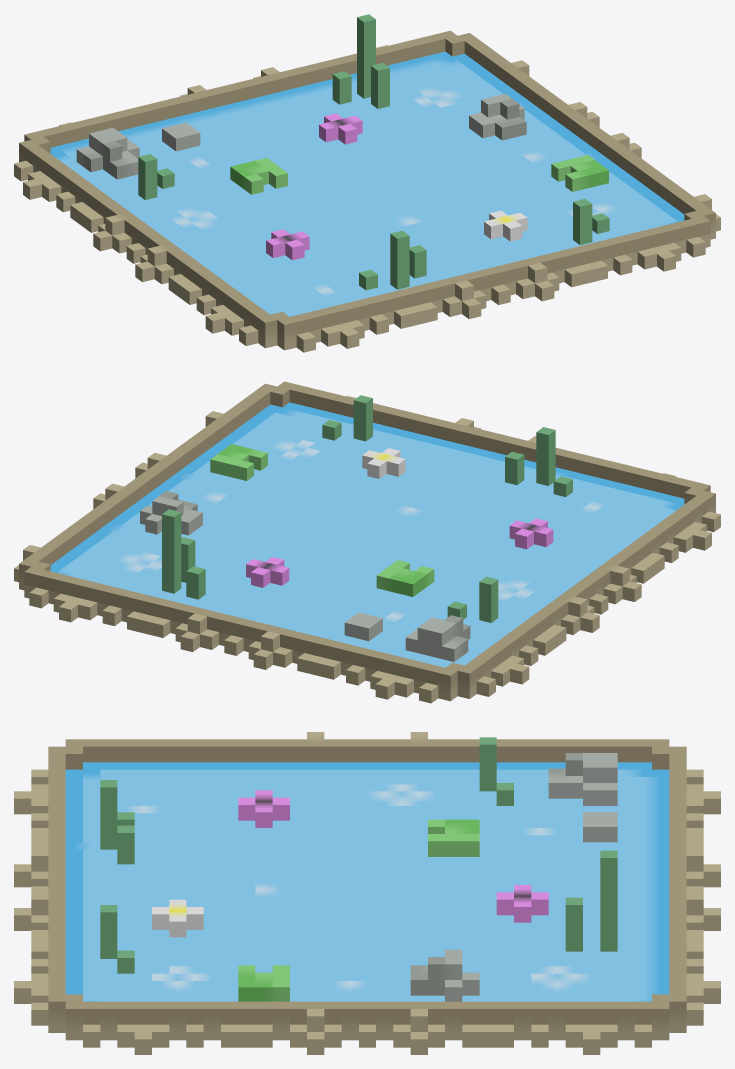
Rendered from pond.obj.
The picture shows the model from 3 angles, top to bottom: view 1: azimuth 30°, elevation 25°; view 2: azimuth 150°, elevation 25°; view 3: azimuth 270°, elevation 25°; orthographic projection. The views are drawn at different scales.
Parts seen in each view (by area): view 1: Box_76; view 2: Box_76; view 3: Box_76.
Boxes of the visible parts, x1,y1,x2,y2 form: Box_76: (14, 14, 720, 352); Box_76: (14, 381, 720, 703); Box_76: (14, 732, 720, 1054).
Bounding box in the file's own units: 41 × 7 × 41.
1 material, 1 textured.
